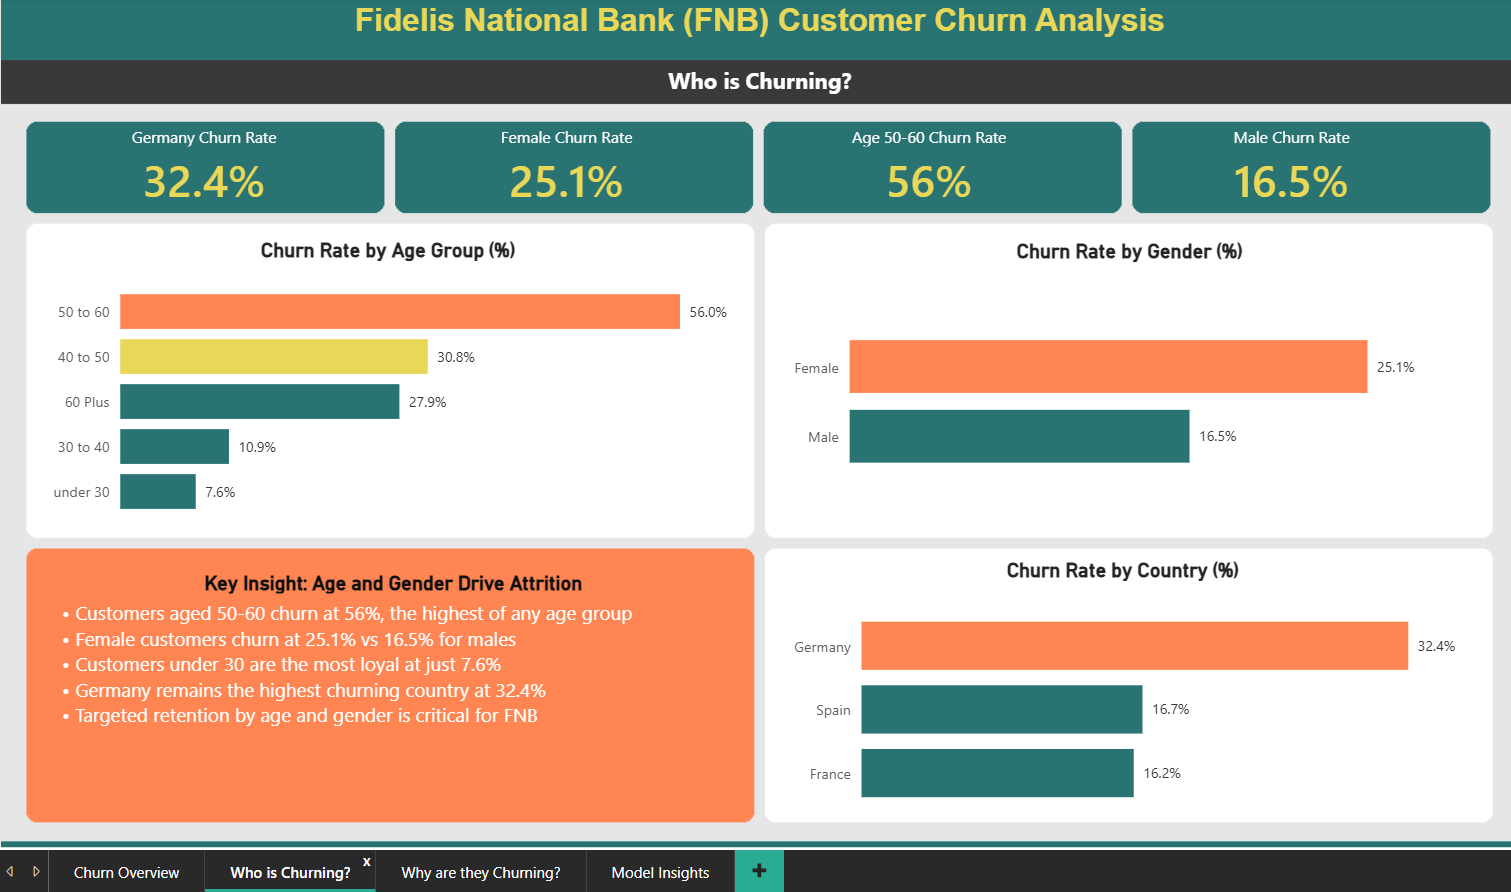

What the dashboard file says about the page in this screenshot:
{"tool":"powerbi","page":{"name":"Who is Churning?","canvas":[1280,720],"ordinal":1},"visuals":[{"type":"textbox","box":[0,0,1280.2,52.3],"z":0},{"type":"textbox","box":[0,52.3,1280.2,37.2],"z":1000},{"type":"cardVisual","fields":{"Data":["Churn_Modelling.Female Churn Rate"]},"box":[380.2,95.3,193,97.7],"z":2000},{"type":"cardVisual","fields":{"Data":["Churn_Modelling.Age5060 Churn Rate"]},"box":[686,95.3,193,97.7],"z":3000},{"type":"cardVisual","fields":{"Data":["Churn_Modelling.Male Churn Rate"]},"box":[991.9,95.3,193,97.7],"z":4000},{"type":"cardVisual","fields":{"Data":["Churn_Modelling.Germany Churn Rate"]},"box":[74.4,95.3,193,97.7],"z":5000},{"type":"clusteredBarChart","title":"Churn Rate by Gender (%)","fields":{"Category":["Churn_Modelling.Gender"],"Y":["Churn_Modelling.Churn Rate"]},"box":[660.5,204.7,583.7,248.8],"z":6000},{"type":"textbox","title":"Key Insight: Age and Gender Drive Attrition ","box":[33.7,484,594.7,189.8],"z":7000},{"type":"clusteredBarChart","title":"Churn Rate by Age Group (%)","fields":{"Category":["Churn_Modelling.AgeGroup"],"Y":["Churn_Modelling.Churn Rate"]},"box":[34.3,203.1,583.2,249.7],"z":8000},{"type":"clusteredBarChart","title":"Churn Rate by Country (%)","fields":{"Category":["Churn_Modelling.Geography"],"Y":["Churn_Modelling.Churn Rate"]},"box":[660,473.4,572.2,230.5],"z":9000}]}

Visuals, with their boxes on the page's 1280x720 design canvas (x1, y1, x2, y2). These are canvas units, not pixel positions in the 1511x892 screenshot, which may show the page scaled, cropped or inside an application window:
textbox: (0, 0, 1280, 52)
textbox: (0, 52, 1280, 90)
cardVisual - Churn_Modelling.Female Churn Rate: (380, 95, 573, 193)
cardVisual - Churn_Modelling.Age5060 Churn Rate: (686, 95, 879, 193)
cardVisual - Churn_Modelling.Male Churn Rate: (992, 95, 1185, 193)
cardVisual - Churn_Modelling.Germany Churn Rate: (74, 95, 267, 193)
"Churn Rate by Gender (%)" clusteredBarChart: (660, 205, 1244, 454)
"Key Insight: Age and Gender Drive Attrition " textbox: (34, 484, 628, 674)
"Churn Rate by Age Group (%)" clusteredBarChart: (34, 203, 618, 453)
"Churn Rate by Country (%)" clusteredBarChart: (660, 473, 1232, 704)
